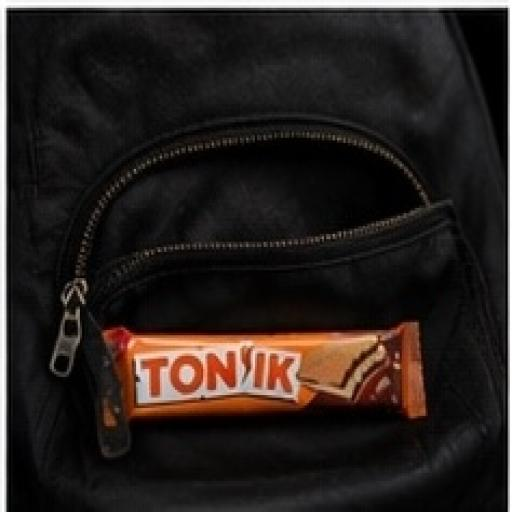tonik: (44, 279, 473, 460)
